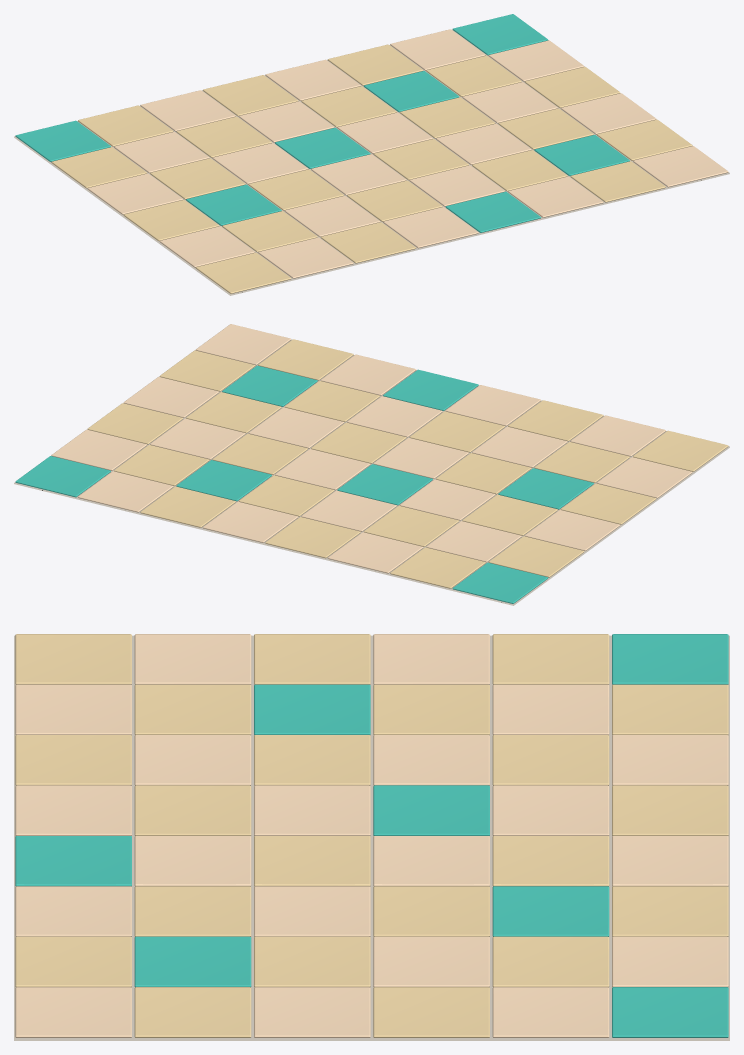
Rendered from WorkshopFloor.fbx.
The picture shows the model from 3 angles, top to bottom: view 1: azimuth 30°, elevation 25°; view 2: azimuth 150°, elevation 25°; view 3: azimuth 270°, elevation 25°; orthographic projection. The views are drawn at different scales.
Parts seen in each view (by area): view 1: WorkshopFloor mesh; view 2: WorkshopFloor mesh; view 3: WorkshopFloor mesh.
Part boxes in pixels (box(x1,y1,x2,y2)): WorkshopFloor mesh: box(14, 14, 729, 295); WorkshopFloor mesh: box(14, 324, 729, 605); WorkshopFloor mesh: box(14, 634, 729, 1040).
Size of the model in its own units: 10 by 0.05 by 7.5.
